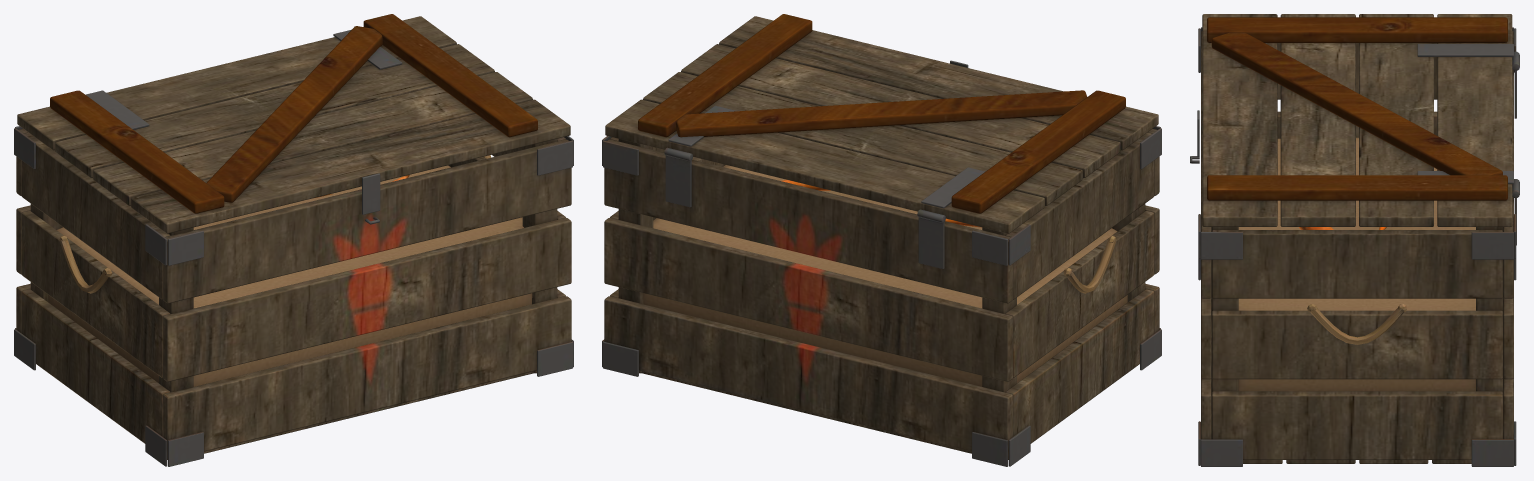
File: loot_crate.glb
3 renders of one model, left to right at view 1: azimuth 30°, elevation 25°; view 2: azimuth 150°, elevation 25°; view 3: azimuth 270°, elevation 25°, orthographic. The views are drawn at different scales.
Parts seen in each view (by area): view 1: loot_crate, Lid; view 2: loot_crate, Lid; view 3: loot_crate, Lid.
Boxes of the visible parts, bbox=[...] form: loot_crate: bbox=[14, 126, 573, 466]; Lid: bbox=[17, 14, 570, 233]; loot_crate: bbox=[602, 126, 1161, 466]; Lid: bbox=[605, 14, 1158, 233]; loot_crate: bbox=[1190, 27, 1519, 466]; Lid: bbox=[1197, 14, 1513, 226].
Bounding box in the file's own units: 0.837 × 0.484 × 0.548.
Materials: 1 (1 with a texture image).
